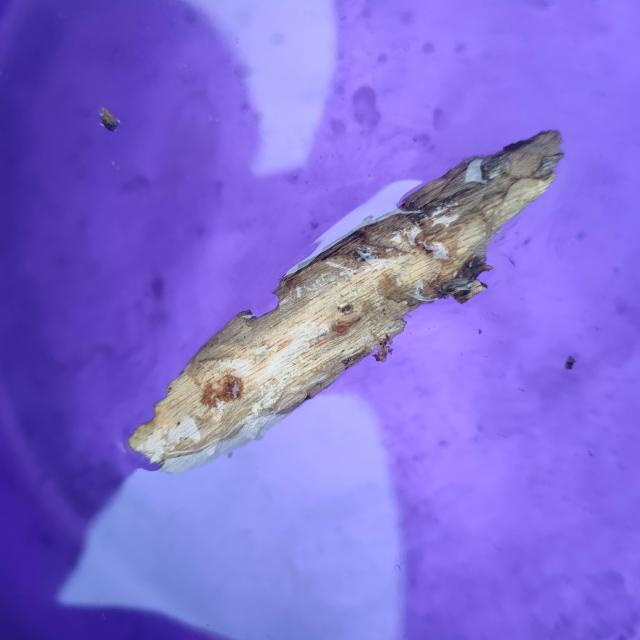litter: (114, 116, 591, 470)
